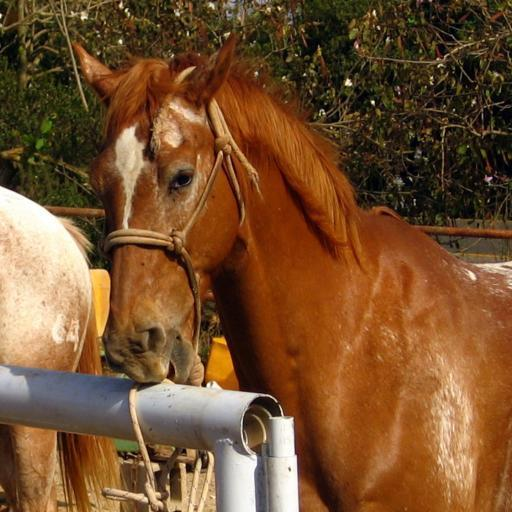horse: (72, 38, 512, 512), (0, 182, 125, 512)
